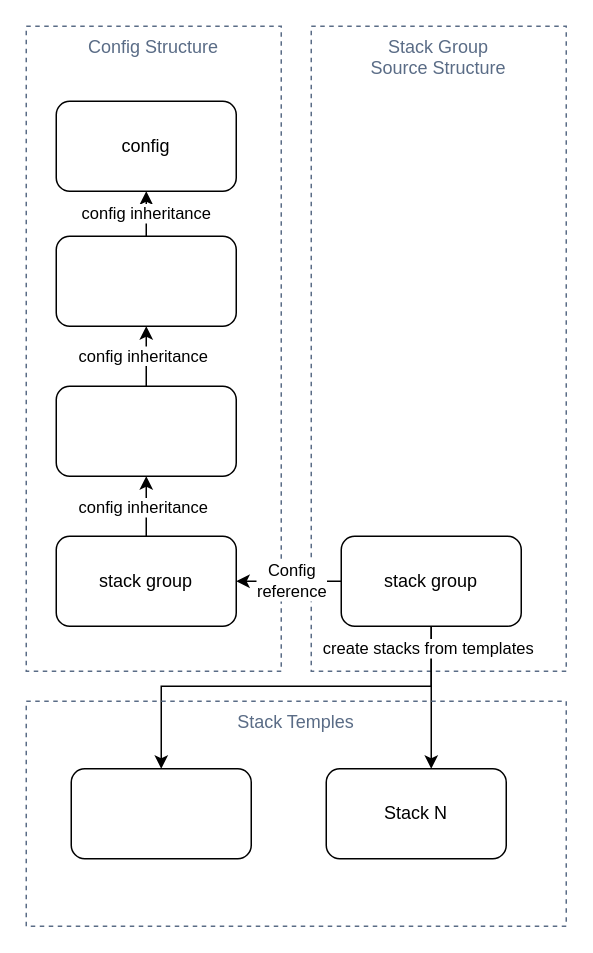
The diagram is 593 pixels wide and 953 high, and some of its shapes have lost their labels. The shapes that lost their labels are listed below. From the top down, each one's centre as x and y in pixels, then its label:
At pixel 145 280: "environment".
At pixel 145 430: "region".
At pixel 160 813: "Stack A".
